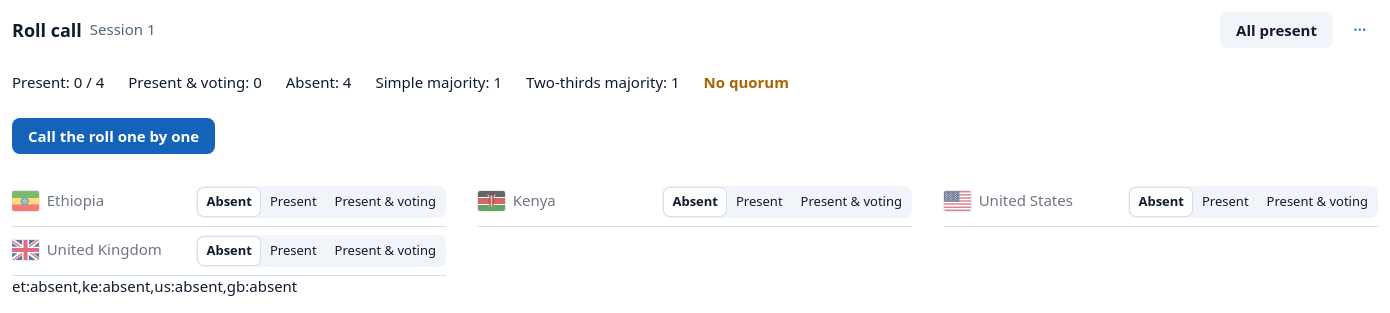
Test: RollCallPanel › All present & voting from the menu
The width and height of the screenshot is (1390, 313).
Click the button named "More roll call actions" at coordinates (1360, 30), box [1341,16,1378,44]
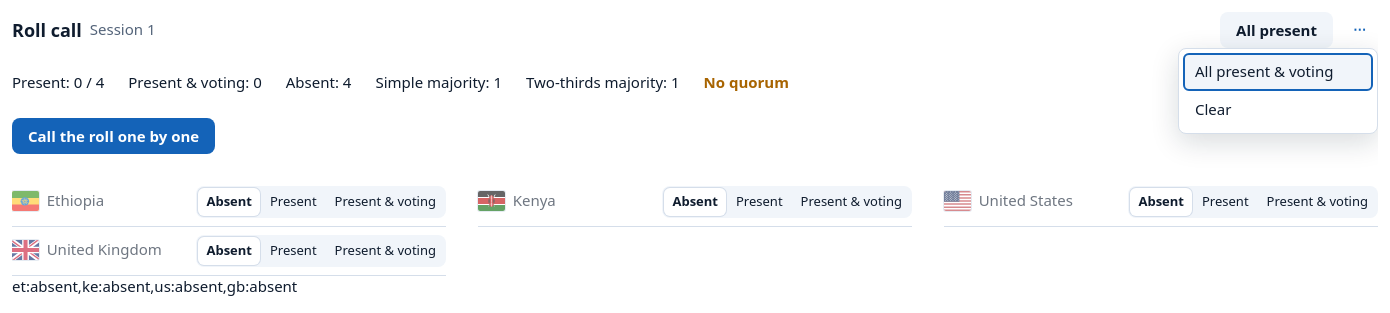
Click the menu item "All present & voting" at coordinates (1278, 72), box [1183,53,1373,91]
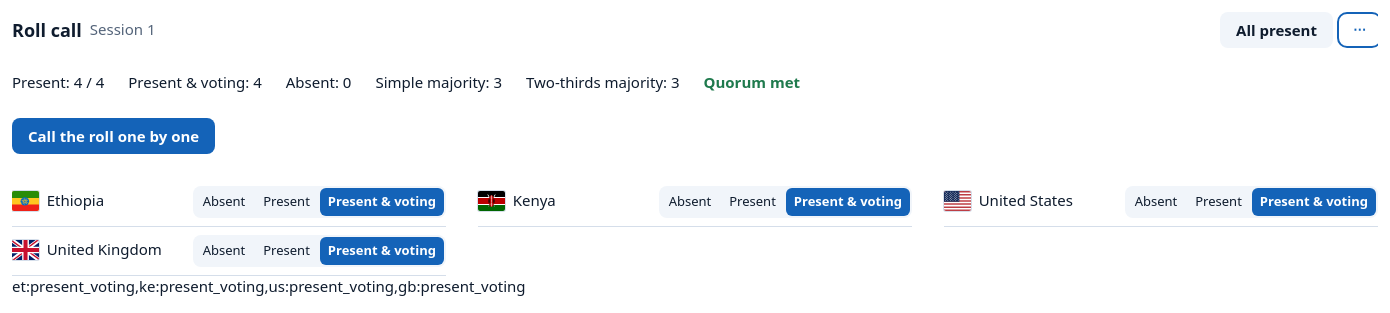
Check: the text with test id "probe" reads "et:present_voting,ke:present_voting,us:present_voting,gb:present_voting", box [12,276,526,296]
